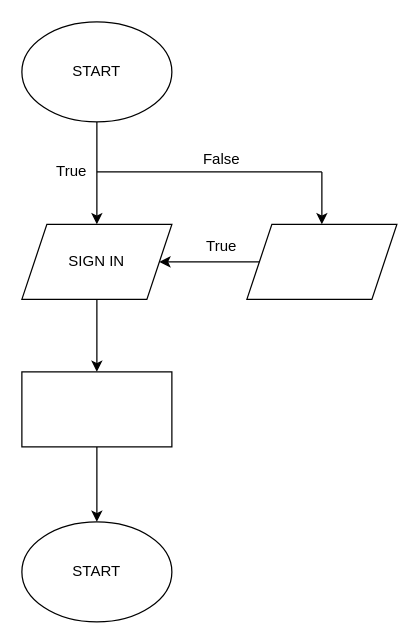
The diagram is 419 pixels wide and 644 high, and some of its shapes have lost their labels. Here are the shapes that lost their labels. From the top down, the centre of each, then its label:
At (x=321, y=261): "SIGN UP".
At (x=96, y=409): "FINISH PROCESS".
